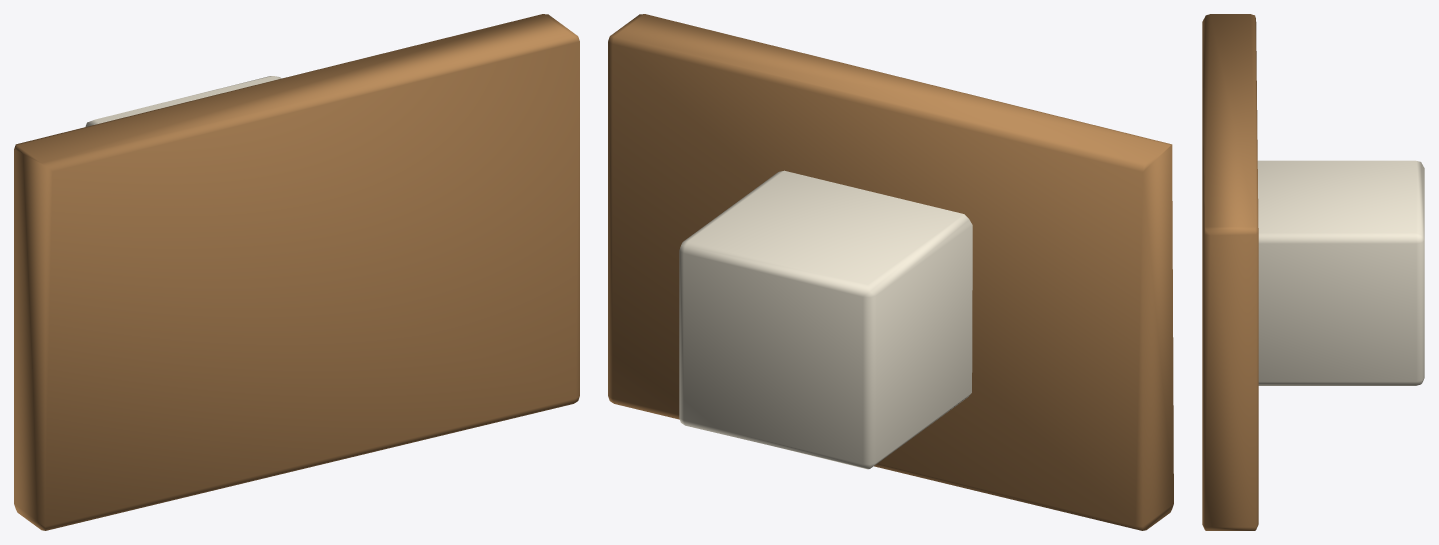
Rendered from equipment_delivery_dock.glb.
The picture shows the model from 3 angles, left to right: view 1: azimuth 30°, elevation 25°; view 2: azimuth 150°, elevation 25°; view 3: azimuth 270°, elevation 25°; orthographic projection. The views are drawn at different scales.
Visible parts, largest first — view 1: Dock, Crate; view 2: Dock, Crate; view 3: Crate, Dock.
Part boxes in pixels (left/top/right/bottom): Dock: left=14, top=14, right=579, bottom=530; Crate: left=85, top=76, right=281, bottom=126; Dock: left=608, top=14, right=1173, bottom=530; Crate: left=679, top=170, right=972, bottom=469; Crate: left=1257, top=160, right=1424, bottom=385; Dock: left=1202, top=14, right=1258, bottom=530.
Bounding box in the file's own units: 2.19 × 1.43 × 0.95.
